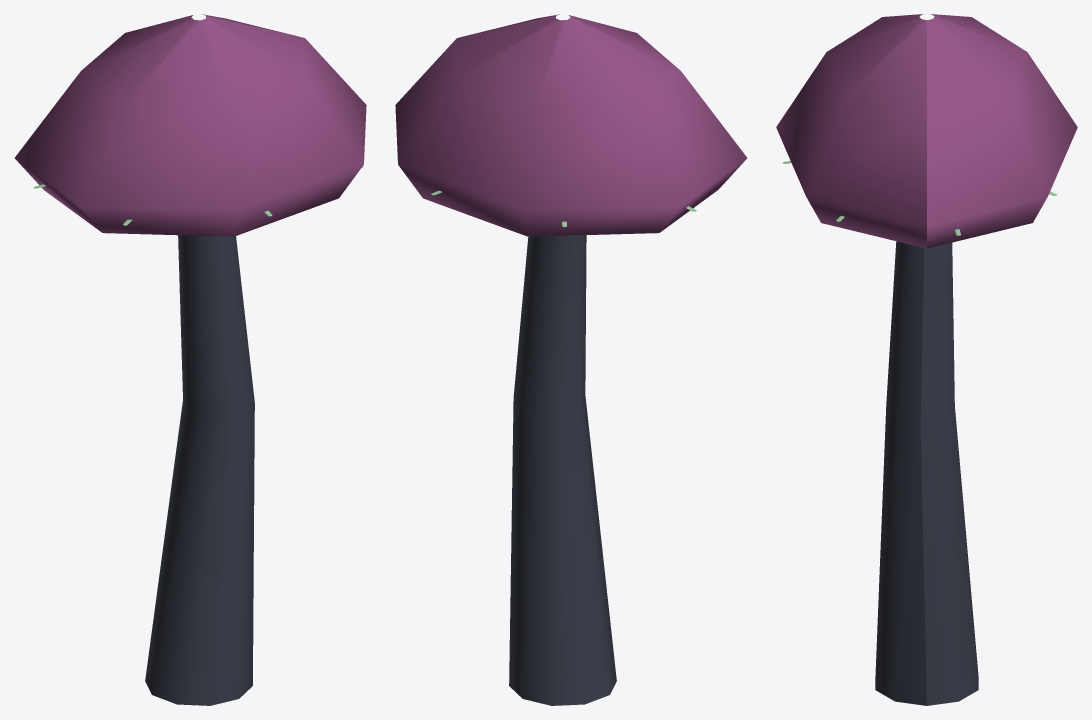
Rendered from prop_1_0.glb.
3 renders of one model, left to right at view 1: azimuth 30°, elevation 25°; view 2: azimuth 150°, elevation 25°; view 3: azimuth 270°, elevation 25°, orthographic.
Visible parts, largest first — view 1: FungalCap, FungalStem; view 2: FungalCap, FungalStem; view 3: FungalCap, FungalStem.
Part boxes in pixels (<box>): FungalCap: <box>14,14,366,236</box>; FungalStem: <box>145,235,254,705</box>; FungalCap: <box>395,14,747,236</box>; FungalStem: <box>509,235,616,705</box>; FungalCap: <box>776,14,1077,248</box>; FungalStem: <box>875,241,978,705</box>.
Size of the model in its own units: 2.85 by 5.7 by 2.34.
